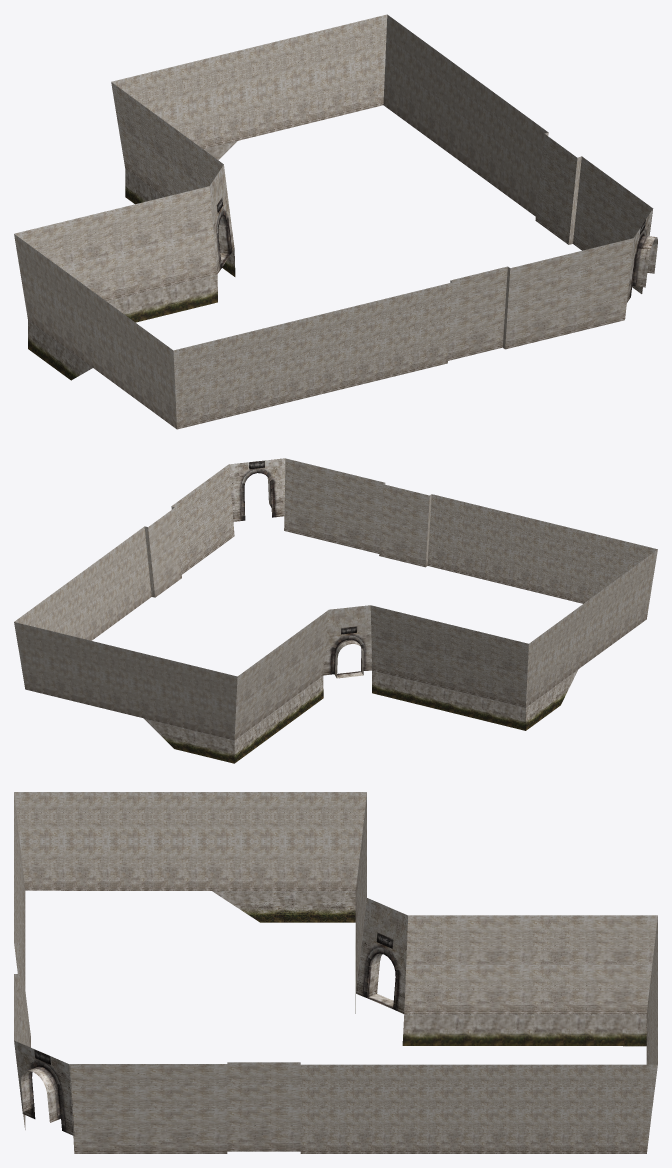
3 renders of one model, top to bottom at view 1: azimuth 30°, elevation 25°; view 2: azimuth 150°, elevation 25°; view 3: azimuth 270°, elevation 25°, orthographic. The views are drawn at different scales.
Visible parts, largest first — view 1: Object44; view 2: Object44; view 3: Object44.
Boxes of the visible parts, left/top/right/bottom form: Object44: left=14, top=14, right=657, bottom=429; Object44: left=14, top=458, right=657, bottom=763; Object44: left=14, top=792, right=657, bottom=1153.
Bounding box in the file's own units: 3730 × 807 × 3722.
